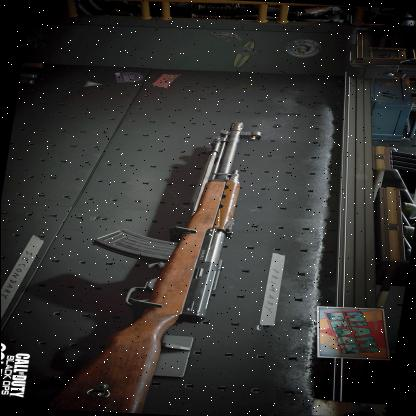rifle: (53, 113, 283, 416)
